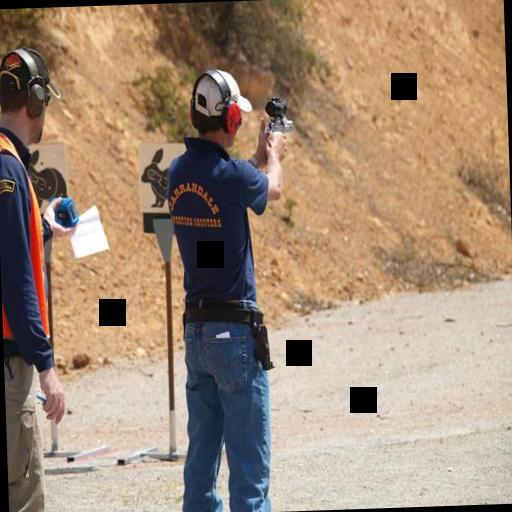Handgun: (260, 92, 297, 146)
